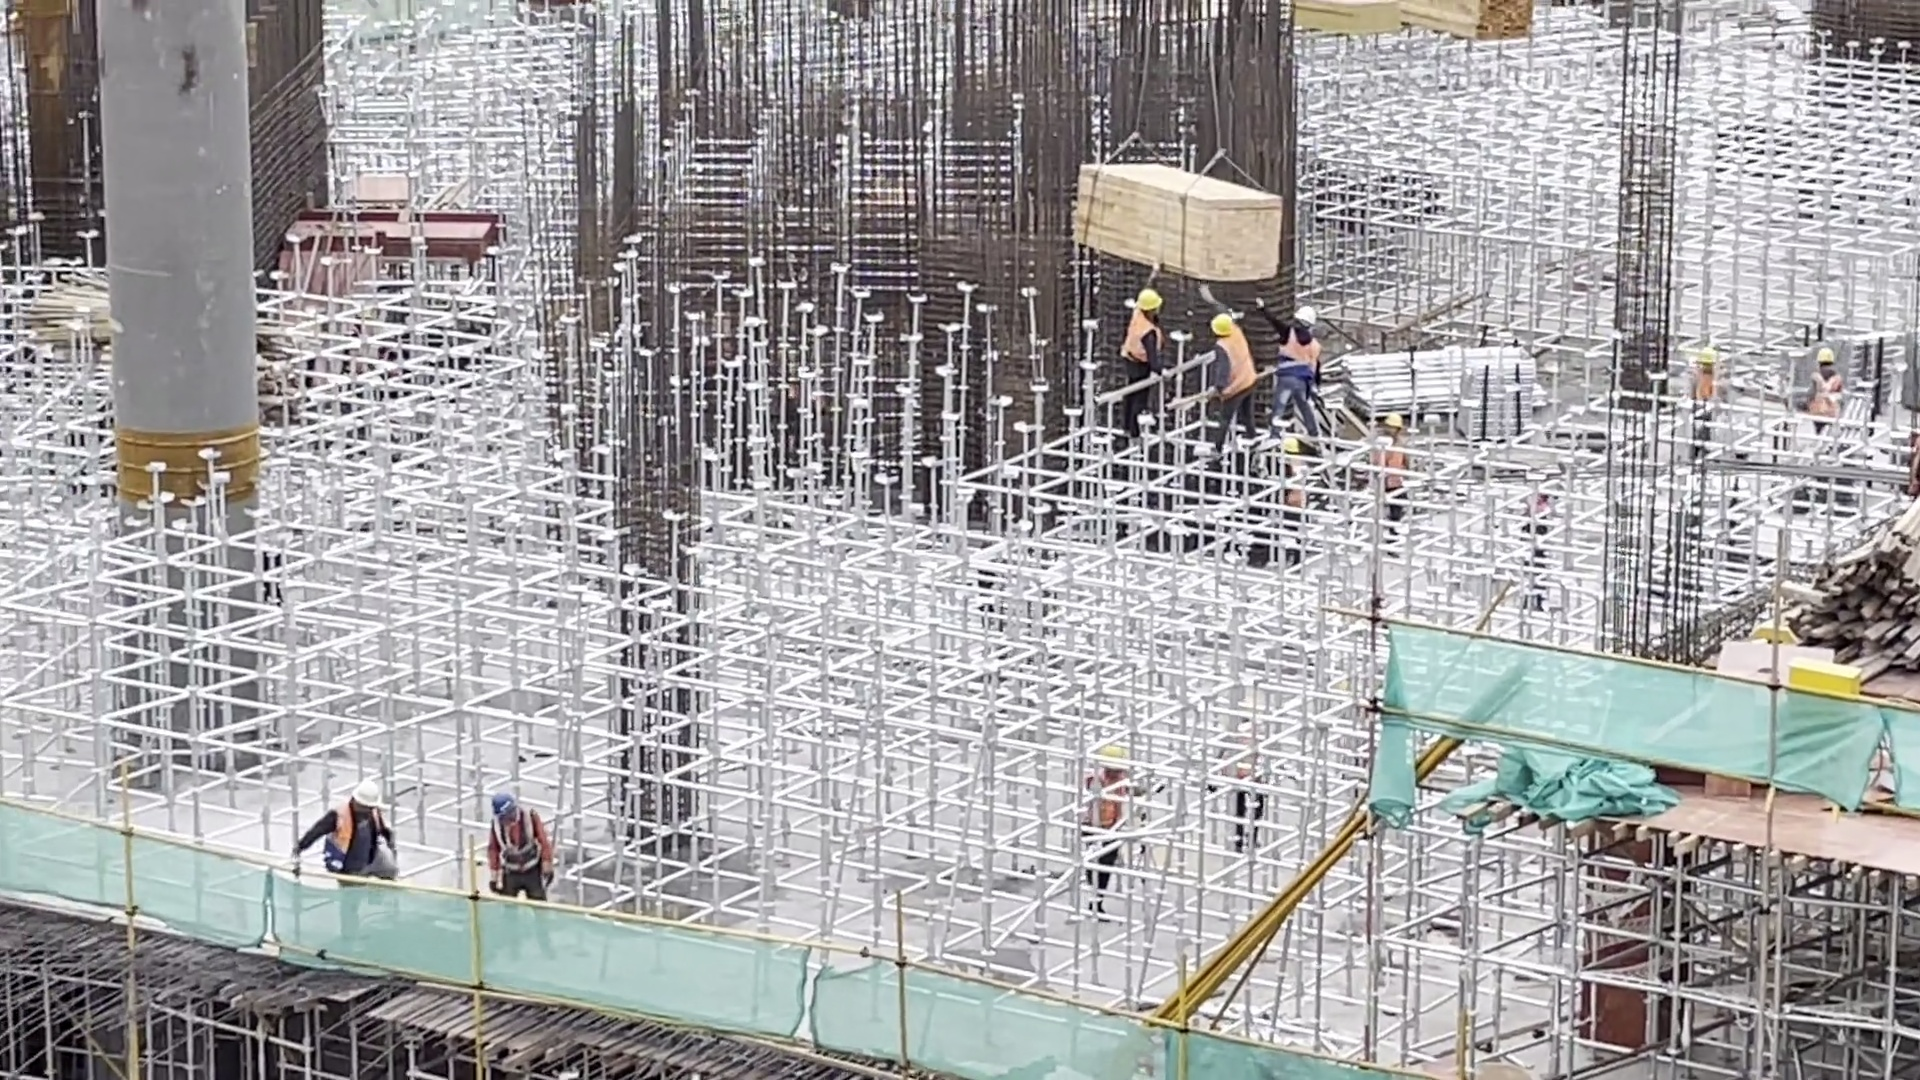helmet: (353, 781, 383, 808), (490, 790, 517, 819), (1136, 287, 1165, 312), (1209, 311, 1234, 337), (1294, 301, 1318, 324)
person: (286, 779, 408, 934), (484, 788, 555, 956), (1255, 294, 1326, 459), (1191, 276, 1257, 452), (1084, 743, 1140, 923), (1122, 290, 1171, 432), (1371, 397, 1408, 534), (1275, 428, 1309, 568), (1804, 350, 1842, 439), (1691, 346, 1724, 432)
vest: (323, 810, 390, 875), (490, 812, 543, 873), (1214, 333, 1257, 401), (1276, 328, 1320, 383), (1124, 311, 1164, 366)
